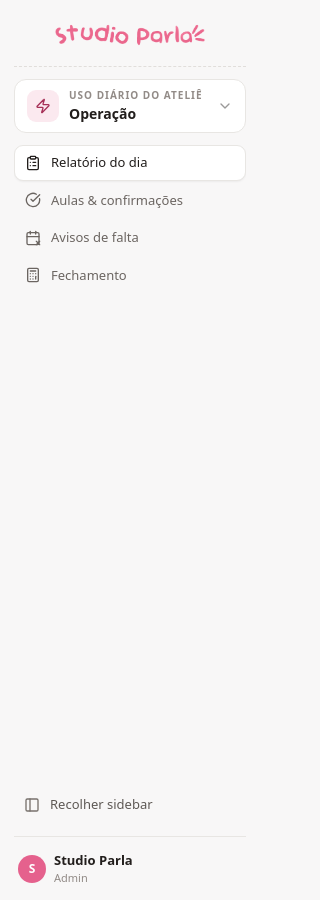
it: sidebar do app enxuto › recolhe a navegação e persiste a preferência
Click the button "Recolher sidebar" at (130, 805), box x1=14 y1=786 x2=246 y2=824
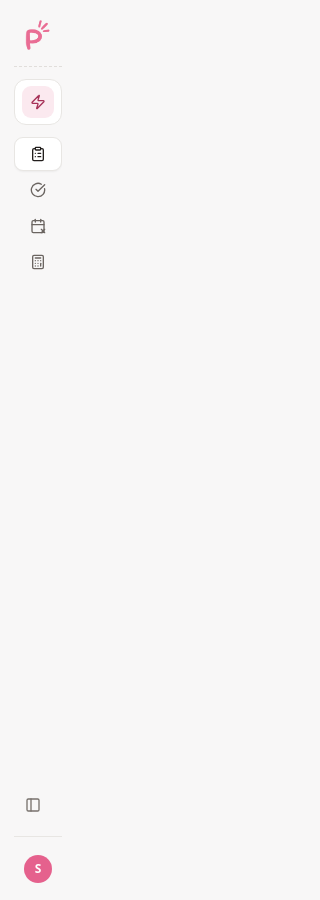
Expected: the button named "Expandir sidebar" is shown, x1=19 y1=786 x2=57 y2=824
